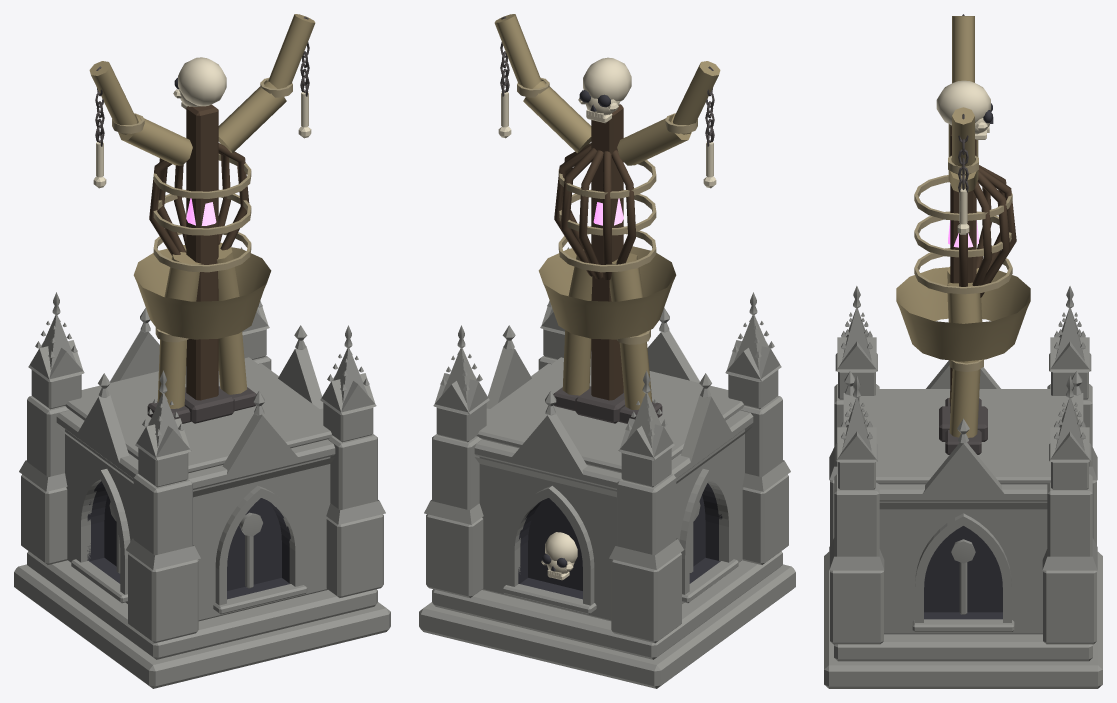
File: tower_effigy_2.glb
3 renders of one model, left to right at view 1: azimuth 30°, elevation 25°; view 2: azimuth 150°, elevation 25°; view 3: azimuth 270°, elevation 25°, orthographic.
Visible parts, largest first — view 1: tower; view 2: tower; view 3: tower.
Part boxes in pixels (x1=…): tower: x1=14, y1=14, x2=390, y2=688; tower: x1=419, y1=14, x2=795, y2=688; tower: x1=824, y1=14, x2=1102, y2=688.
Bounding box in the file's own units: 1.7 × 3.84 × 1.7.
